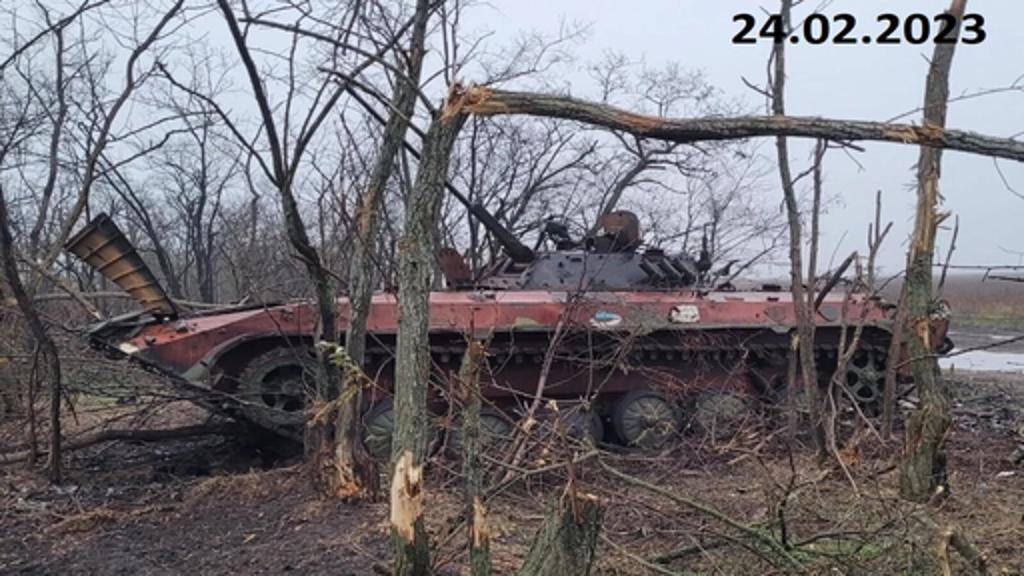APC-IFV: (52, 178, 956, 484)
